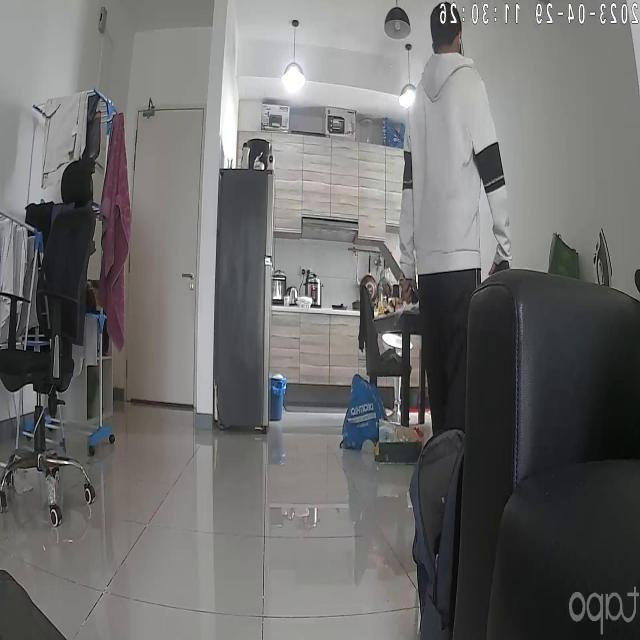Knife: (366, 228, 415, 288)
